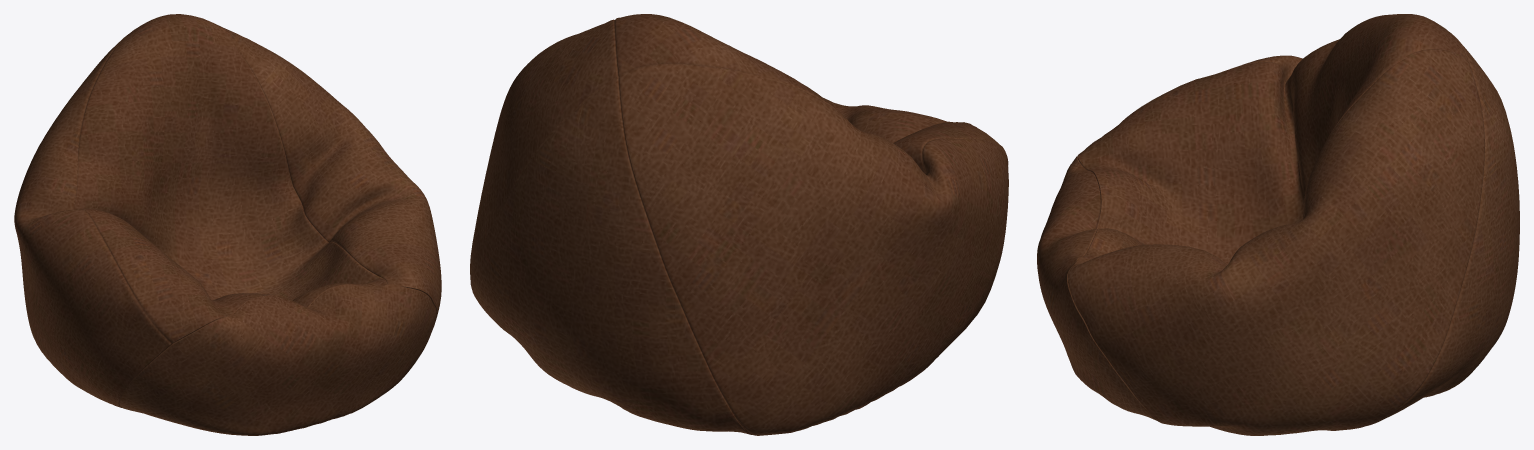
The model's file is BeanBagChair.glb.
3 renders of one model, left to right at view 1: azimuth 30°, elevation 25°; view 2: azimuth 150°, elevation 25°; view 3: azimuth 270°, elevation 25°, orthographic. The views are drawn at different scales.
Visible parts, largest first — view 1: bean_bag_chair_mesh_n3d; view 2: bean_bag_chair_mesh_n3d; view 3: bean_bag_chair_mesh_n3d.
Part boxes in pixels (x1,y1,x2,y2): bean_bag_chair_mesh_n3d: (14,14,441,435); bean_bag_chair_mesh_n3d: (470,14,1008,435); bean_bag_chair_mesh_n3d: (1037,14,1519,435).
Bounding box in the file's own units: 1.29 × 1 × 1.3.
Materials: 1 (1 with a texture image).
